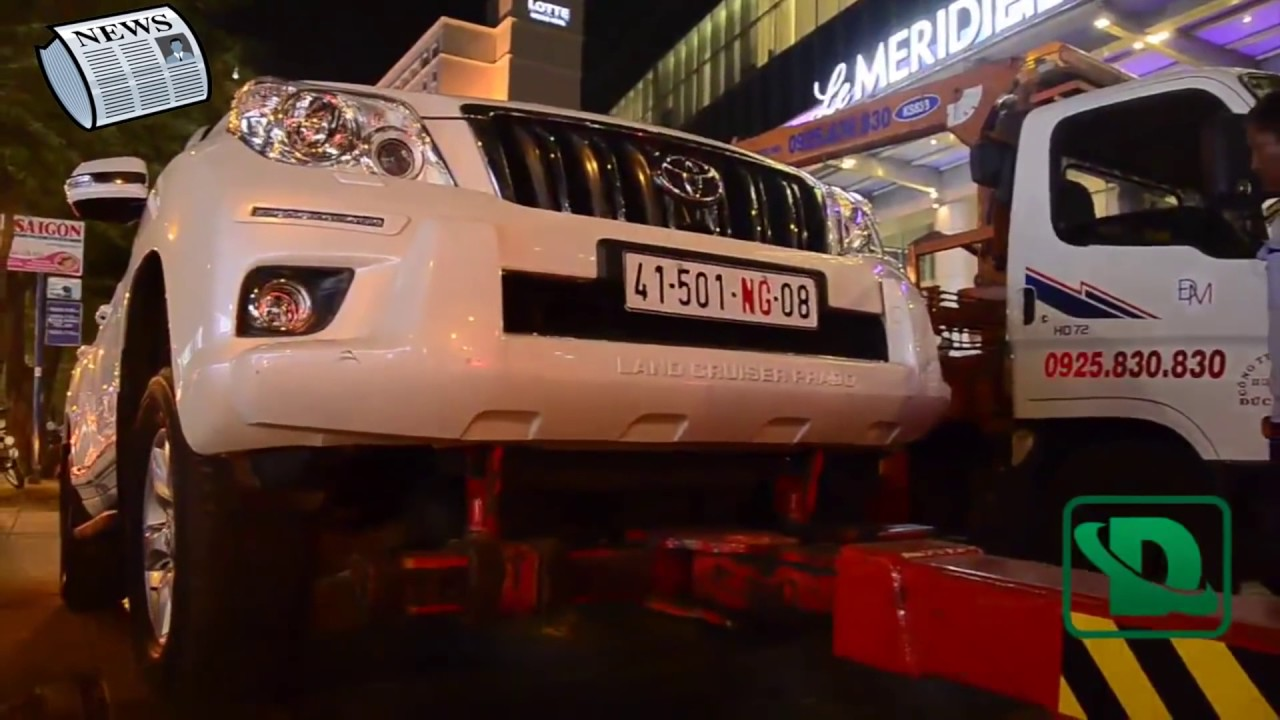plate: (621, 245, 825, 339)
